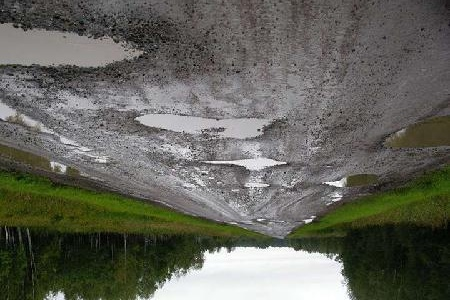pothole: (0, 17, 148, 74), (130, 111, 287, 142), (378, 116, 450, 154), (199, 155, 290, 172), (321, 171, 381, 193), (242, 181, 272, 191), (301, 215, 317, 226)
